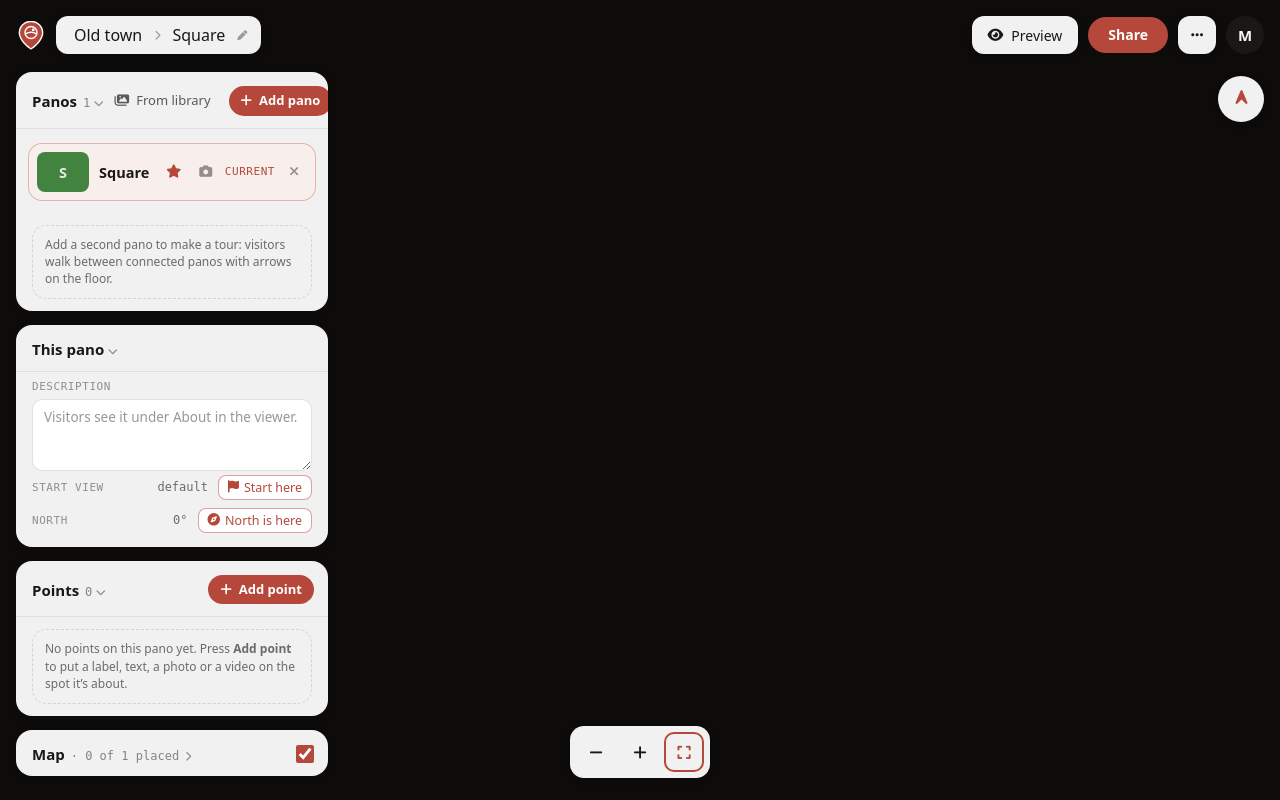
editor: add from library › waits for unsaved changes to be saved first
Click the button with aria-label "Tour title: Old town": (108,35) 70,22 -> 146,48
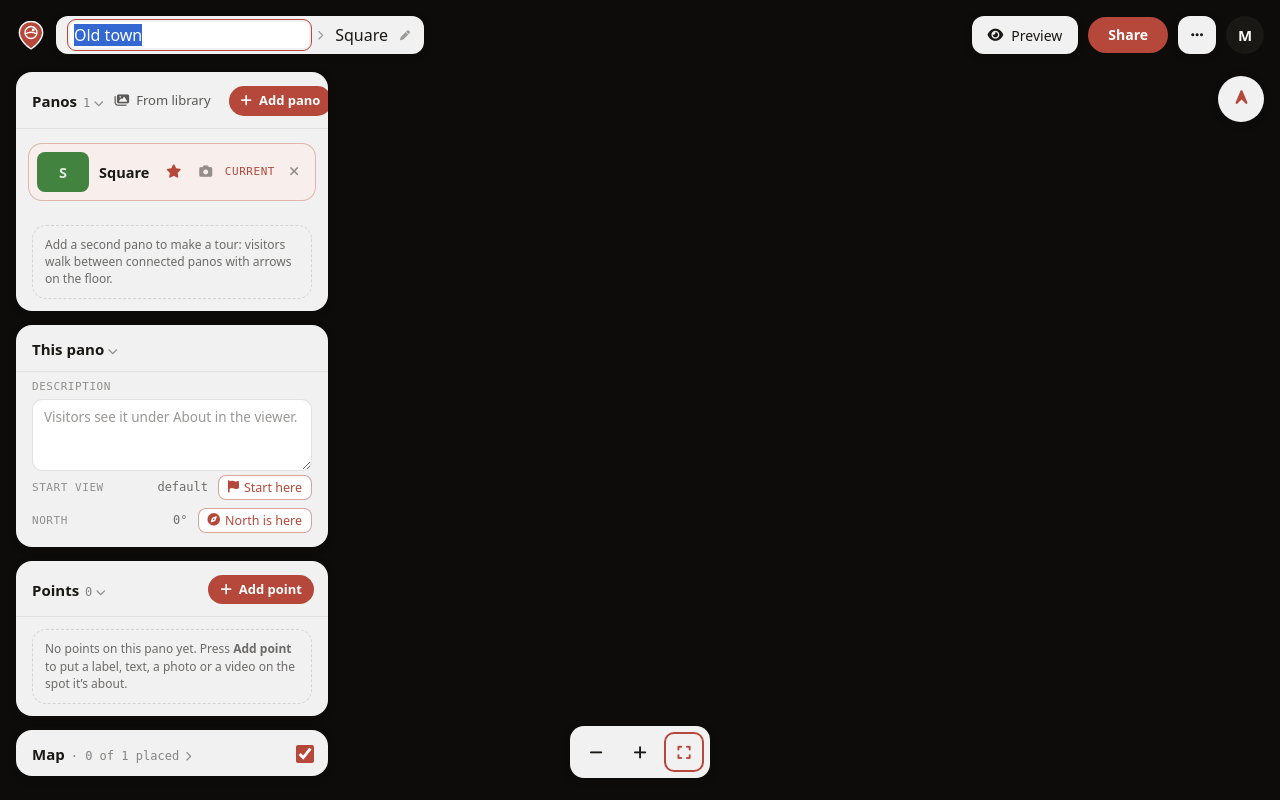
Replace the text in the field named "Tour title" with "New title": (190,35) 70,22 -> 309,48
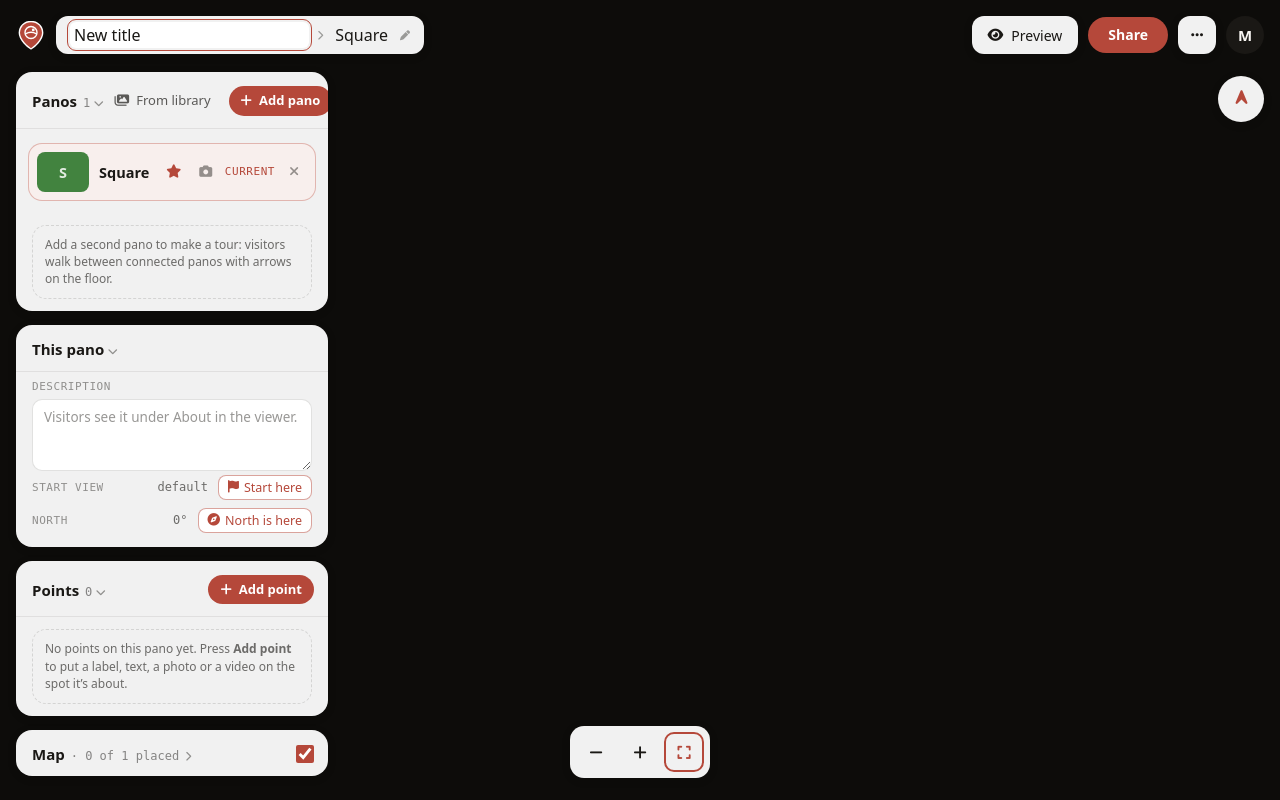
Press Enter in the field named "Tour title", box 70,22 -> 309,48
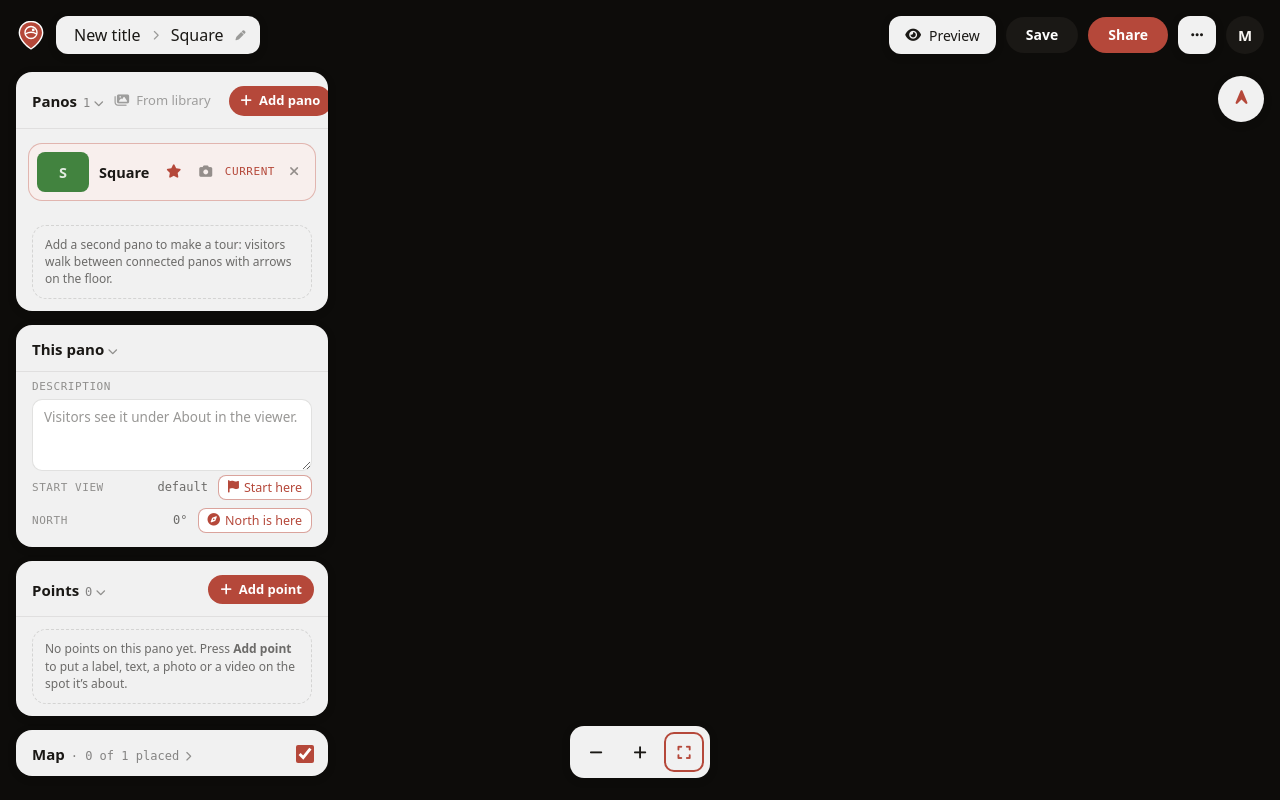
Check: the button "From library" is disabled, box 103,86 -> 223,116
